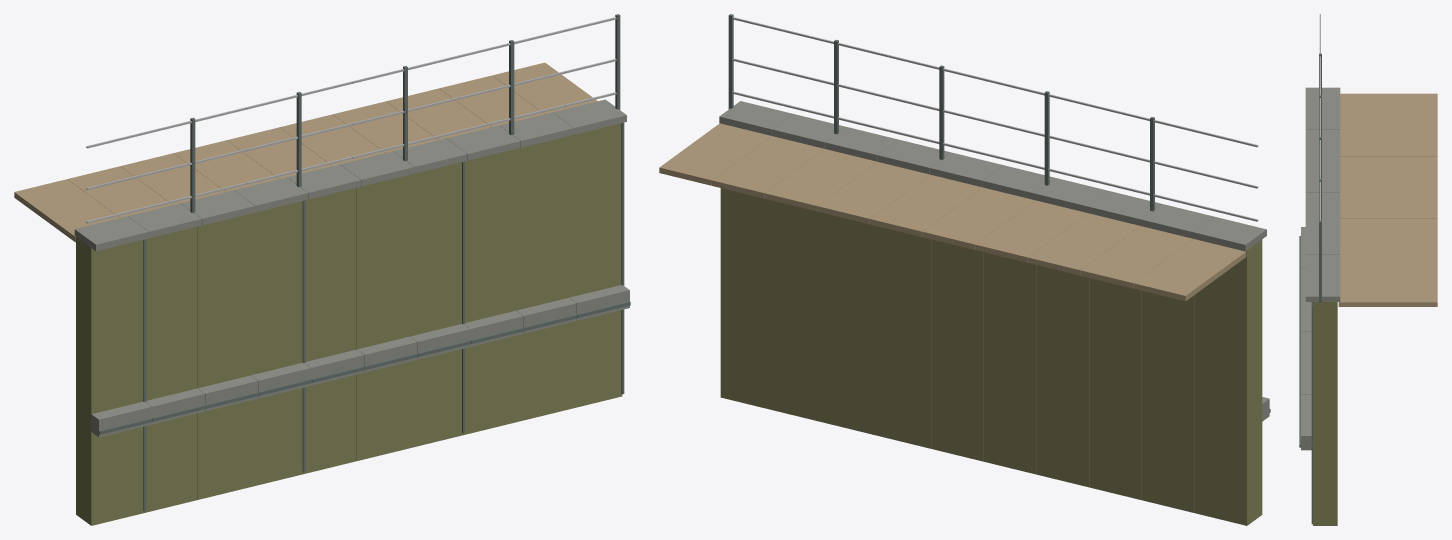
The model's file is SM_MuroRampa_v0_Alto_e0_Sano_LOD0.fbx.
3 views of the same model, side by side, from view 1: azimuth 30°, elevation 25°; view 2: azimuth 150°, elevation 25°; view 3: azimuth 270°, elevation 25° (orthographic). The views are drawn at different scales.
Visible parts, largest first — view 1: SM_muro_rampa_v0_LOD0; view 2: SM_muro_rampa_v0_LOD0; view 3: SM_muro_rampa_v0_LOD0.
Boxes of the visible parts, x1=… form: SM_muro_rampa_v0_LOD0: x1=14, y1=14, x2=630, y2=525; SM_muro_rampa_v0_LOD0: x1=659, y1=14, x2=1270, y2=525; SM_muro_rampa_v0_LOD0: x1=1299, y1=14, x2=1437, y2=525.
Size of the model in its own units: 10.03 by 6.8 by 2.8.
